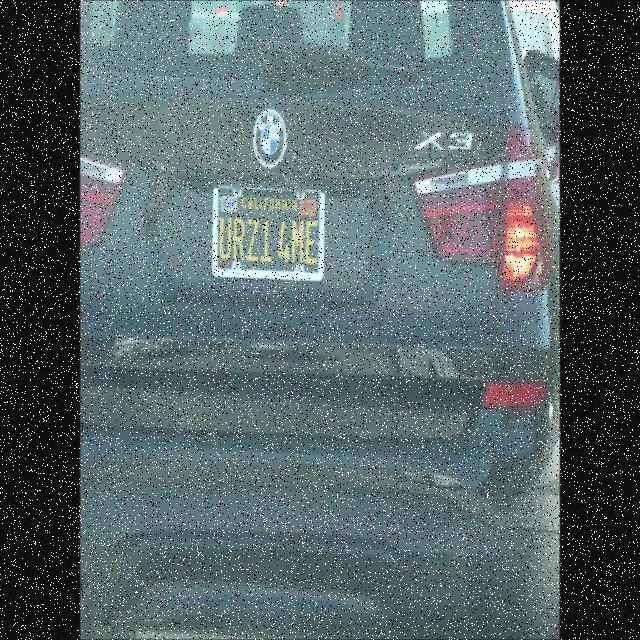License Plate: (212, 180, 330, 284)
